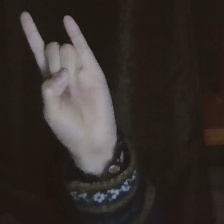U: (13, 1, 122, 157)
